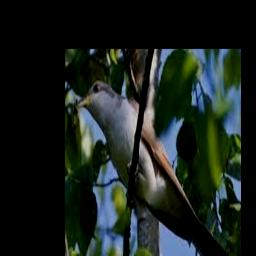Cuckoo: (78, 79, 237, 256)
